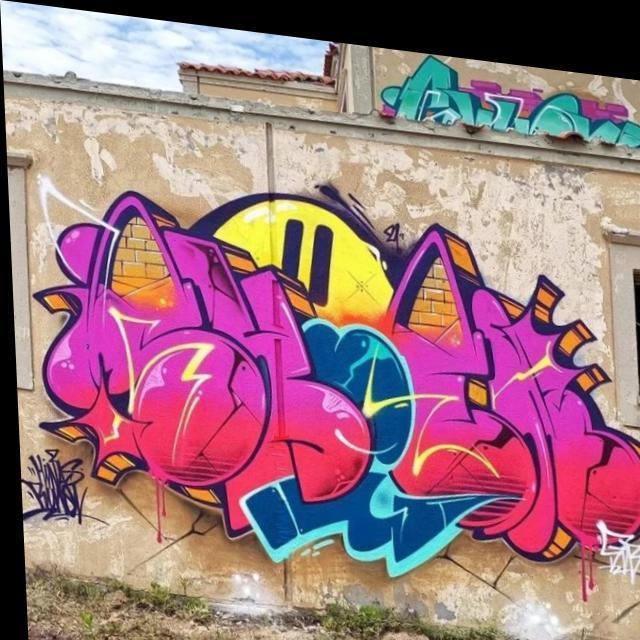-: (24, 160, 640, 620), (24, 443, 84, 534), (587, 496, 640, 578), (384, 203, 411, 250)
